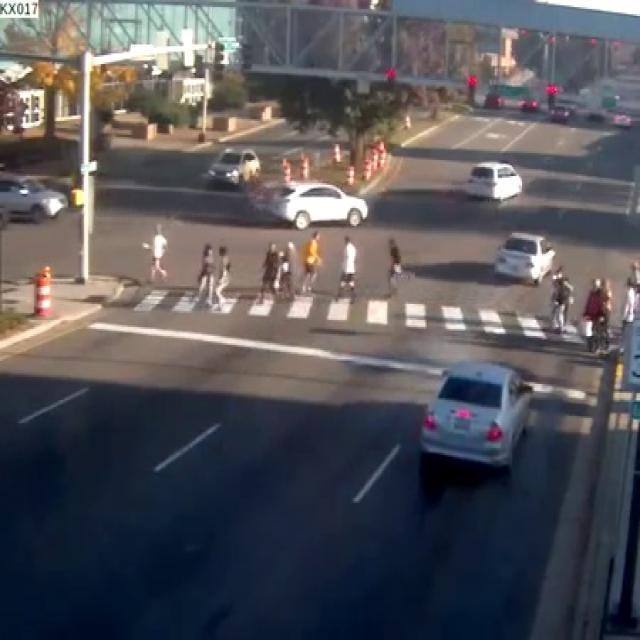car: (419, 360, 529, 464), (270, 182, 367, 227), (0, 170, 66, 221), (493, 232, 550, 282), (202, 146, 258, 185), (466, 160, 520, 197)
red_light: (544, 81, 557, 107), (466, 71, 476, 103), (382, 64, 396, 84)
stop_line: (88, 320, 440, 374), (527, 380, 594, 402)
